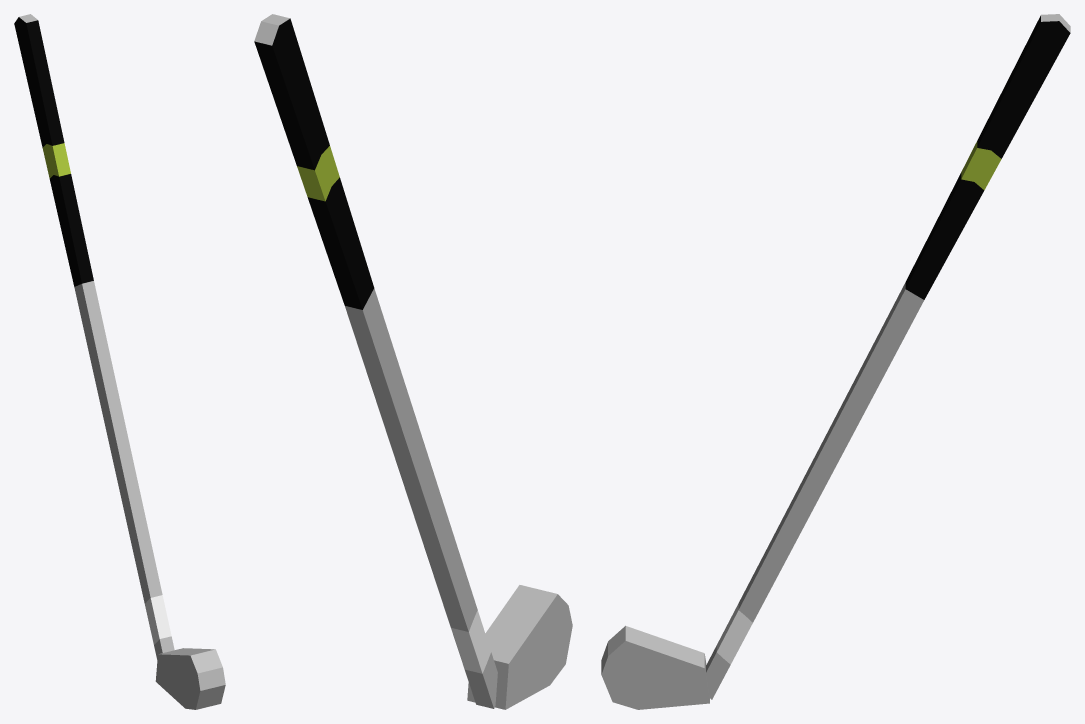
The model's file is Golf clubs.dae.
3 views of the same model, side by side, from view 1: azimuth 30°, elevation 25°; view 2: azimuth 150°, elevation 25°; view 3: azimuth 270°, elevation 25° (orthographic). The views are drawn at different scales.
Parts seen in each view (by area): view 1: Cube; view 2: Cube; view 3: Cube.
Part boxes in pixels (left/top/right/bottom): Cube: left=14, top=14, right=225, bottom=709; Cube: left=254, top=14, right=572, bottom=709; Cube: left=601, top=14, right=1070, bottom=709.
Size of the model in its own units: 0.1587 by 2.09 by 3.36.
